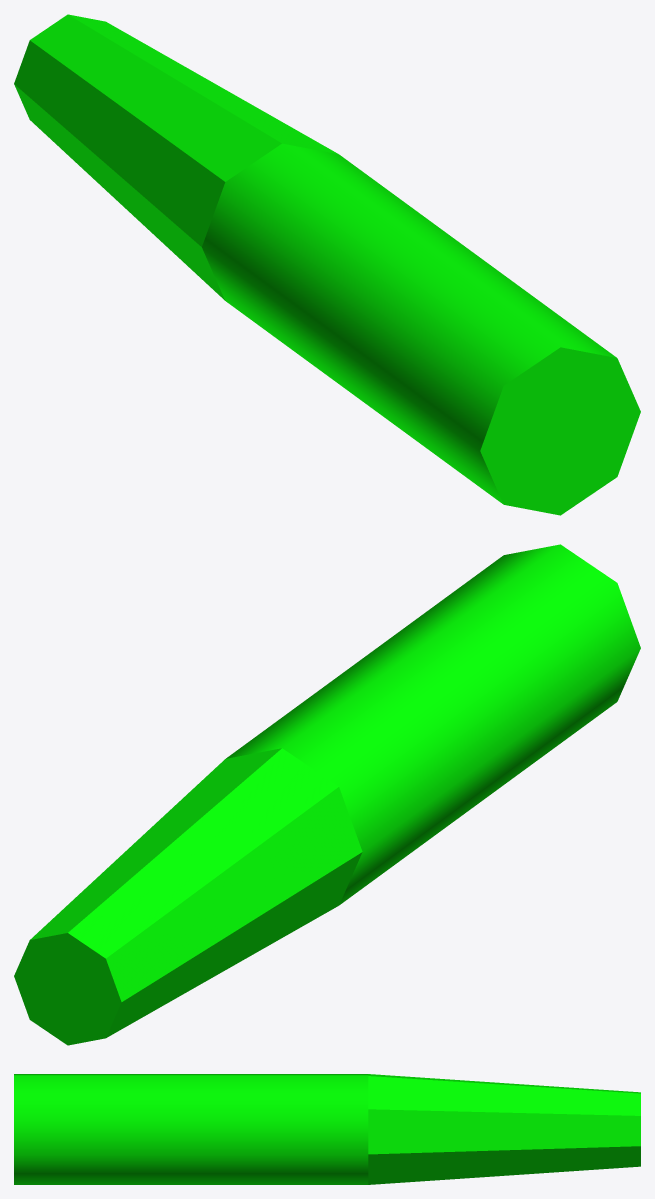
Rendered from SM_KitchenTool_12_Collider.fbx.
The picture shows the model from 3 angles, top to bottom: view 1: azimuth 30°, elevation 25°; view 2: azimuth 150°, elevation 25°; view 3: azimuth 270°, elevation 25°; orthographic projection. The views are drawn at different scales.
Parts seen in each view (by area): view 1: SM_KitchenTool_12_Collider; view 2: SM_KitchenTool_12_Collider; view 3: SM_KitchenTool_12_Collider.
Boxes of the visible parts, <box> form: SM_KitchenTool_12_Collider: <box>14,14,640,515</box>; SM_KitchenTool_12_Collider: <box>14,544,640,1045</box>; SM_KitchenTool_12_Collider: <box>14,1074,640,1184</box>.
Size of the model in its own units: 11.29 by 11.29 by 59.95.
